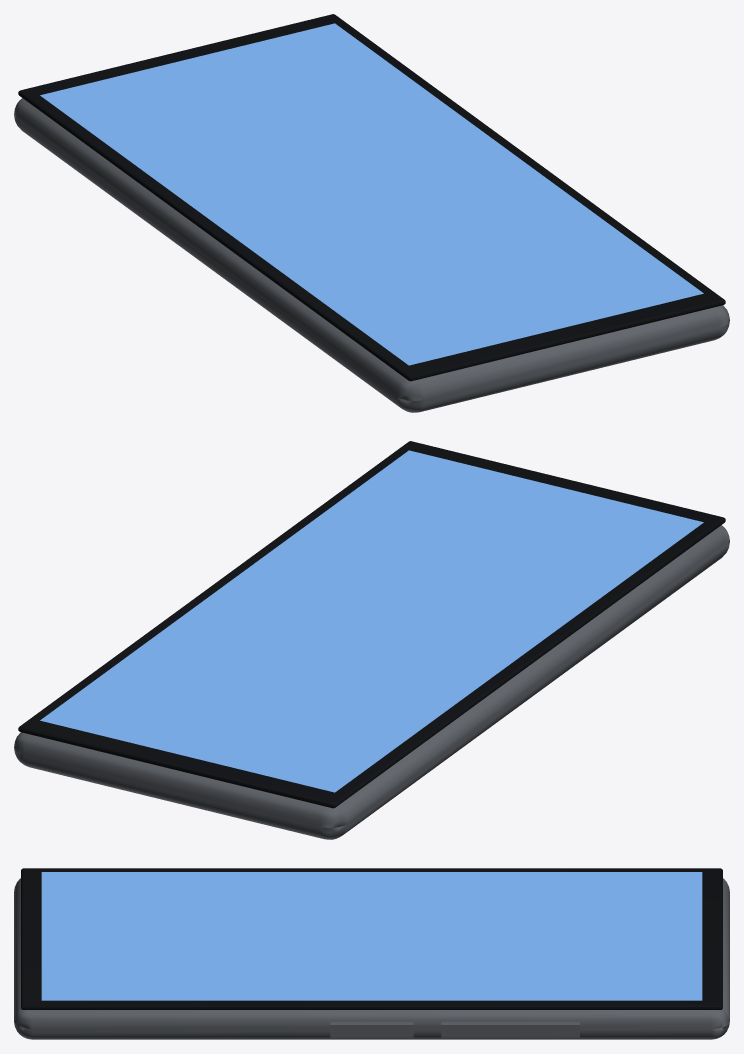
The model's file is smartphone.glb.
3 views of the same model, one above another, from view 1: azimuth 30°, elevation 25°; view 2: azimuth 150°, elevation 25°; view 3: azimuth 270°, elevation 25° (orthographic). The views are drawn at different scales.
Visible parts, largest first — view 1: PhoneScreen, Smartphone; view 2: PhoneScreen, Smartphone; view 3: PhoneScreen, Smartphone.
Boxes of the visible parts, x1,y1,x2,y2 form: PhoneScreen: (40, 23, 703, 365); Smartphone: (14, 14, 729, 412); PhoneScreen: (40, 450, 703, 792); Smartphone: (14, 441, 729, 839); PhoneScreen: (41, 872, 702, 1000); Smartphone: (14, 868, 729, 1039).
Bounding box in the file's own units: 0.0752 × 0.0119 × 0.155.
